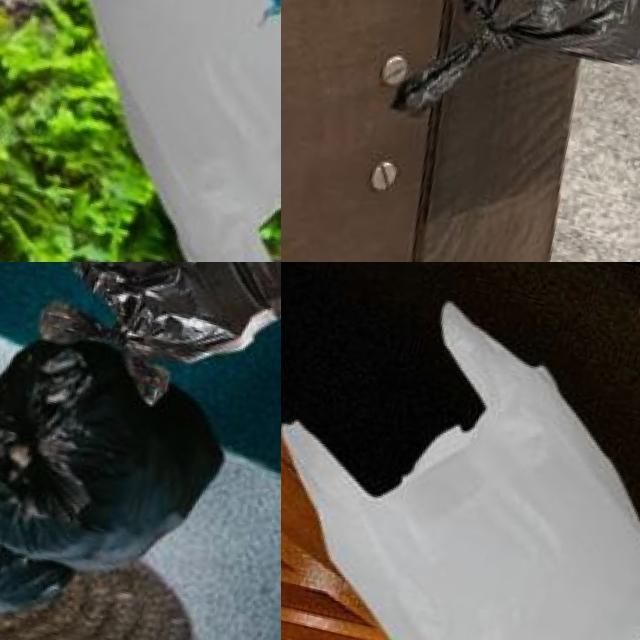waste: (281, 304, 640, 640), (5, 0, 281, 262), (0, 327, 235, 586), (374, 0, 640, 176), (27, 262, 281, 424), (0, 422, 99, 640)
